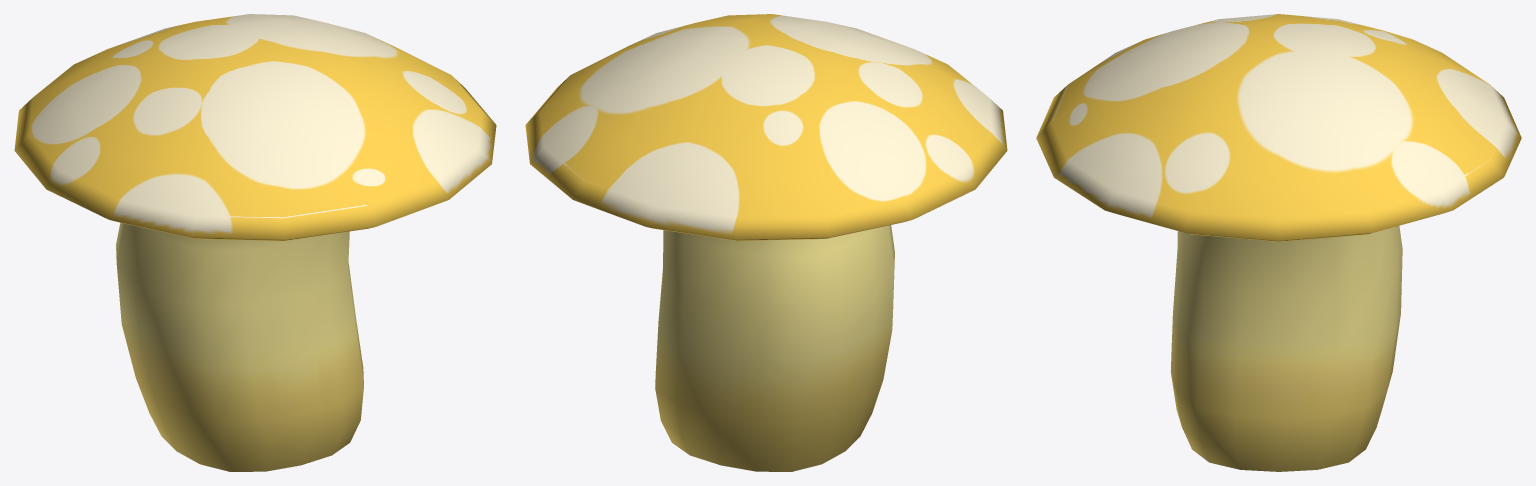
File: yellowMush.fbx
The picture shows the model from 3 angles, left to right: view 1: azimuth 30°, elevation 25°; view 2: azimuth 150°, elevation 25°; view 3: azimuth 270°, elevation 25°; orthographic projection.
Parts seen in each view (by area): view 1: Cube.002; view 2: Cube.002; view 3: Cube.002.
Boxes of the visible parts, x1,y1,x2,y2 form: Cube.002: (14, 14, 496, 471); Cube.002: (525, 14, 1007, 471); Cube.002: (1036, 14, 1521, 471).
Size of the model in its own units: 233 by 206 by 233.
